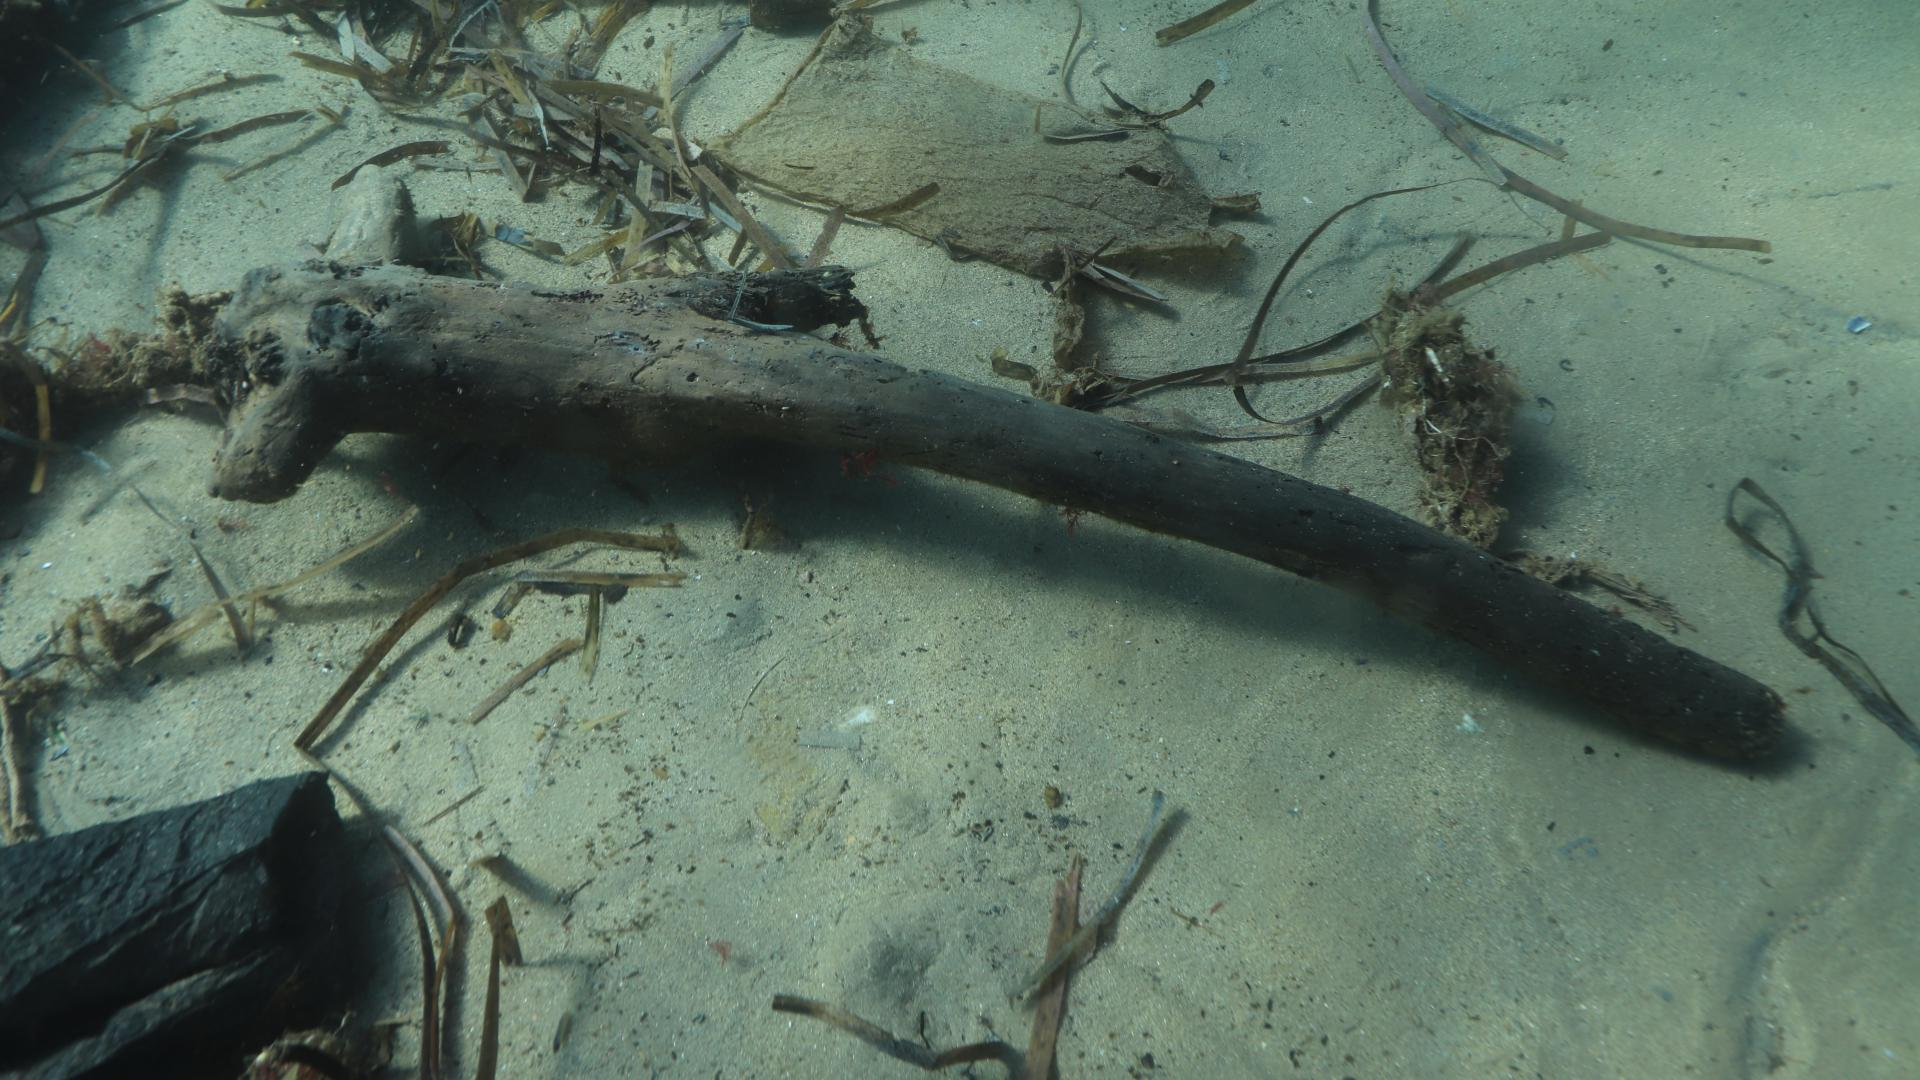wood: (208, 164, 1789, 771), (723, 18, 1244, 277)
